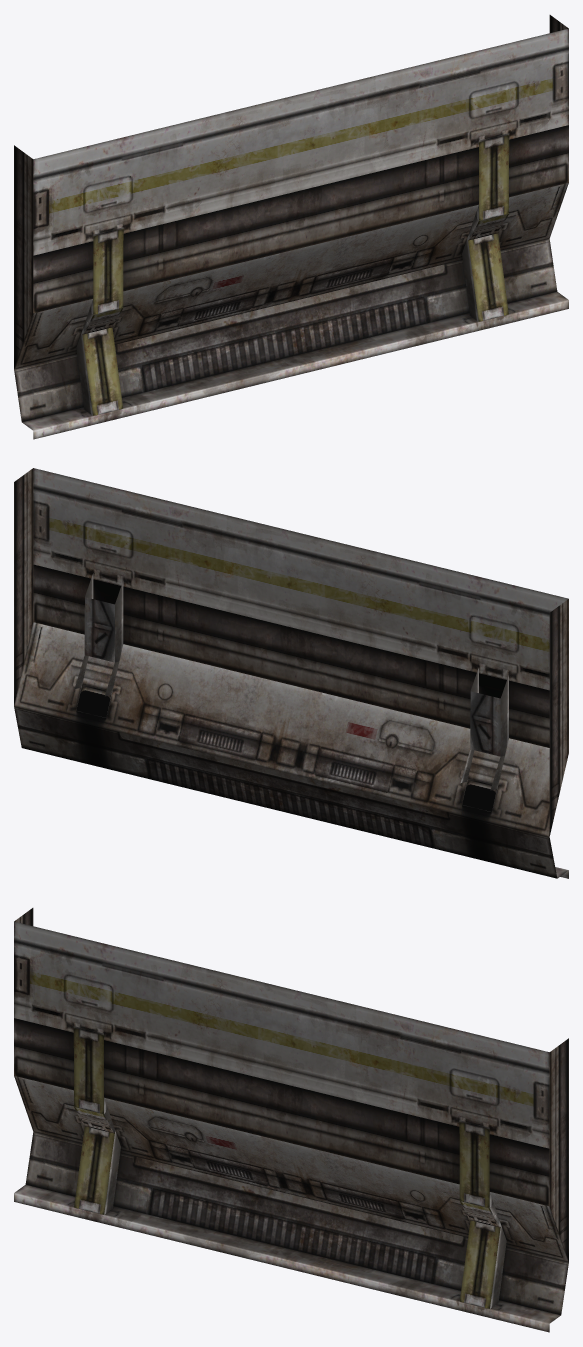
The model's file is theta_ground_bottom.dae.
3 renders of one model, top to bottom at view 1: azimuth 30°, elevation 25°; view 2: azimuth 150°, elevation 25°; view 3: azimuth 330°, elevation 25°, orthographic.
Visible parts, largest first — view 1: Mesh; view 2: Mesh; view 3: Mesh.
Part boxes in pixels (bbox=[...]): Mesh: bbox=[14, 15, 568, 439]; Mesh: bbox=[14, 468, 568, 878]; Mesh: bbox=[14, 908, 568, 1332].
Bounding box in the file's own units: 4 × 2 × 0.2518.
